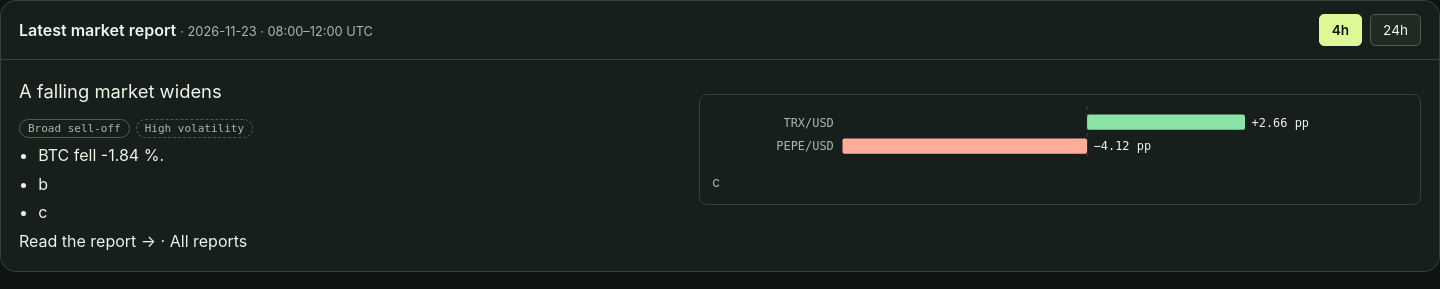
Test case: pages › home-page card shows the latest report of the chosen series
This screenshot has width=1440, height=289.
Expected: the element with test id "chart-leaders" is shown, [699, 94, 1421, 206]
Click the button "24h" at (1396, 30), box [1370, 14, 1421, 46]
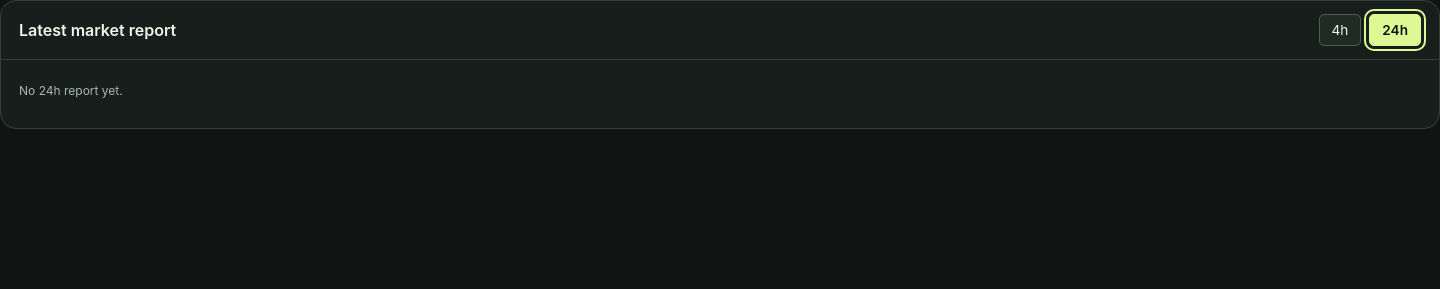
Now the text "No 24h report yet." is shown, box [19, 83, 123, 98]
